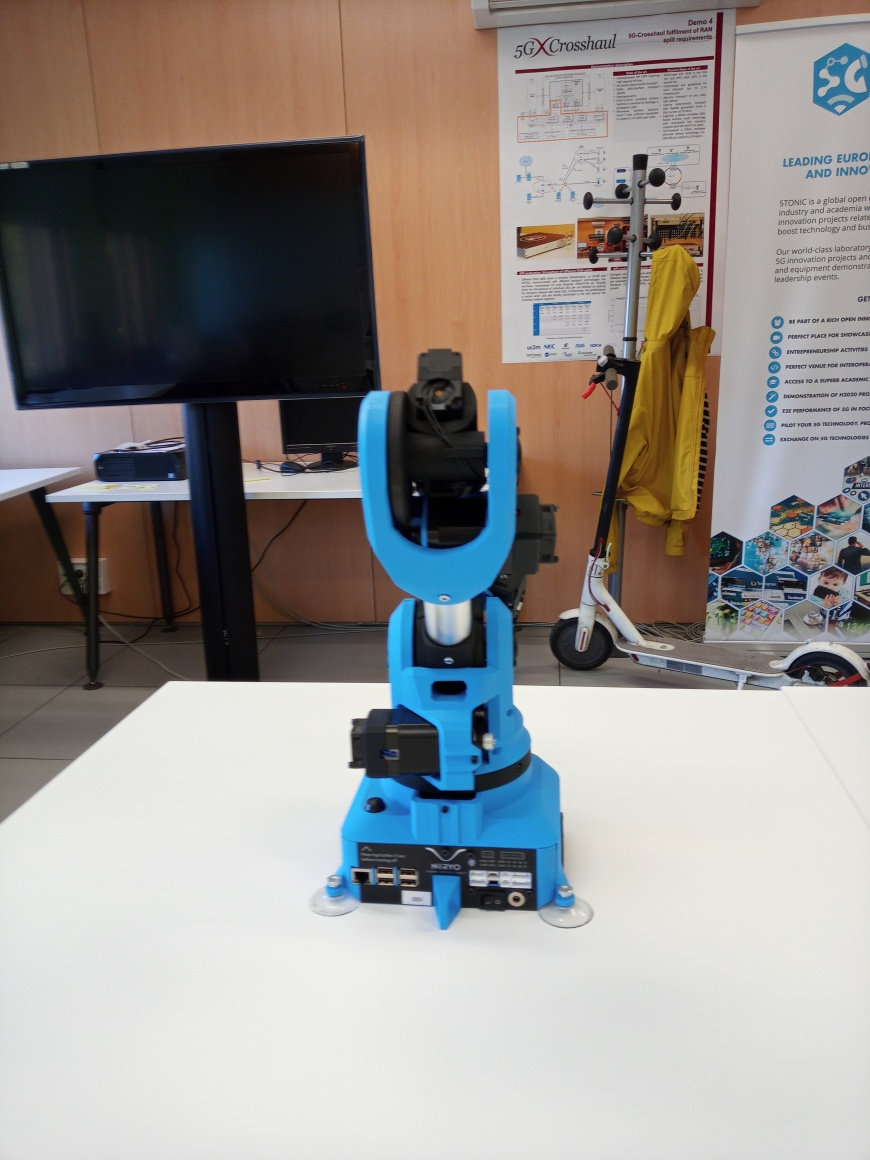robot: (304, 346, 600, 932)
